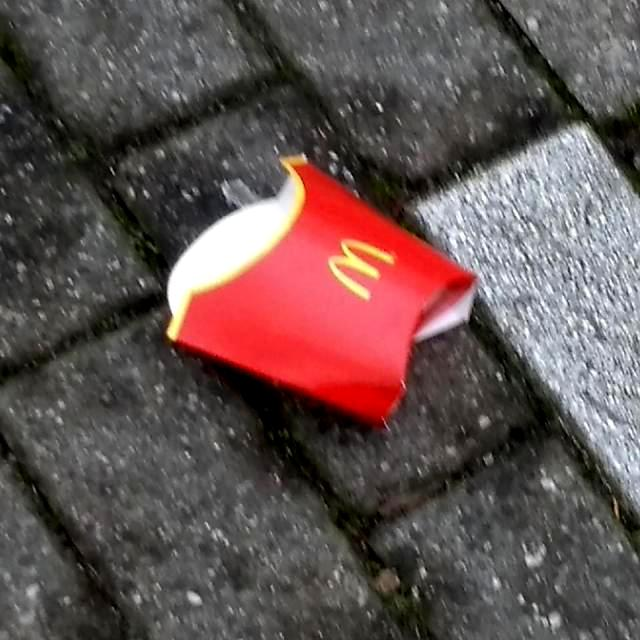Paper: (163, 148, 479, 436)
